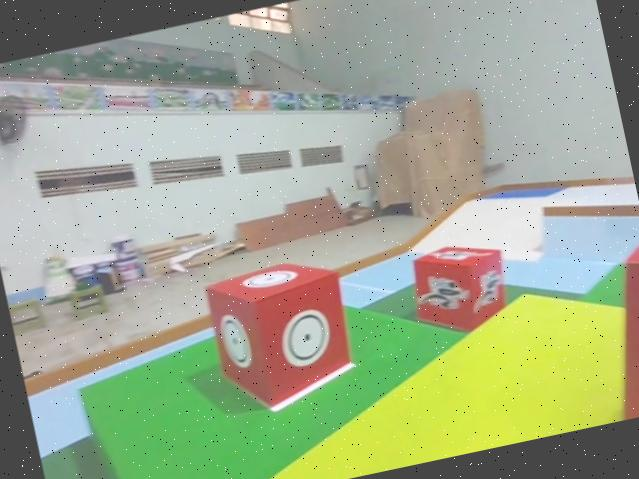R1: (404, 235, 515, 346)
R2 Real: (202, 250, 363, 420)
